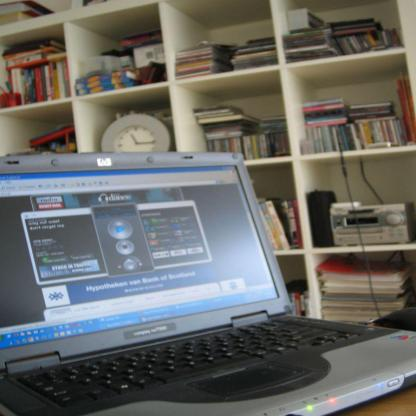board: (0, 149, 415, 415)
